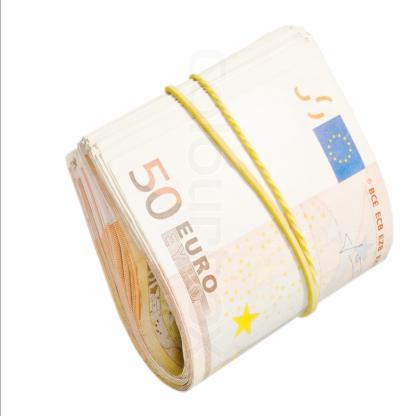euro_banknote: (114, 90, 372, 342)
